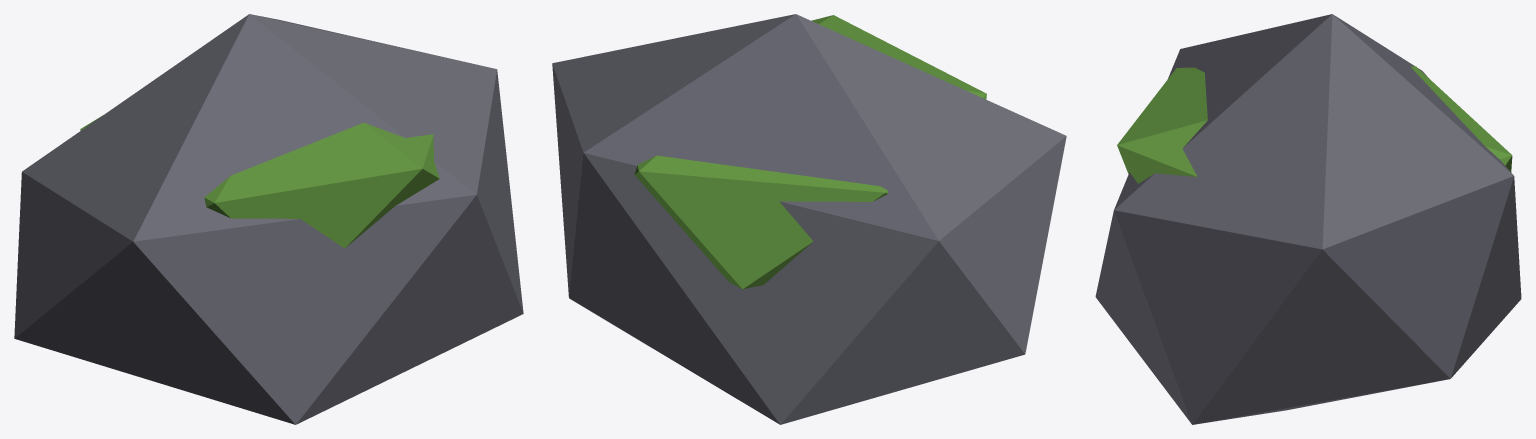
File: nature2_boulder_mossy.glb
The picture shows the model from 3 angles, left to right: view 1: azimuth 30°, elevation 25°; view 2: azimuth 150°, elevation 25°; view 3: azimuth 270°, elevation 25°; orthographic projection. The views are drawn at different scales.
Parts seen in each view (by area): view 1: boulder_mossy; view 2: boulder_mossy; view 3: boulder_mossy.
Part boxes in pixels (bbox=[...]): boulder_mossy: bbox=[14, 14, 523, 424]; boulder_mossy: bbox=[552, 14, 1066, 424]; boulder_mossy: bbox=[1095, 14, 1521, 424].
Size of the model in its own units: 2.13 by 1.62 by 1.62.
